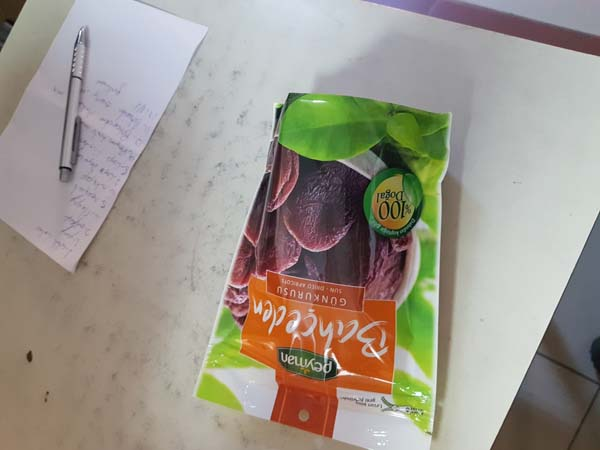bahcedengunkurusu: (192, 88, 460, 450)
